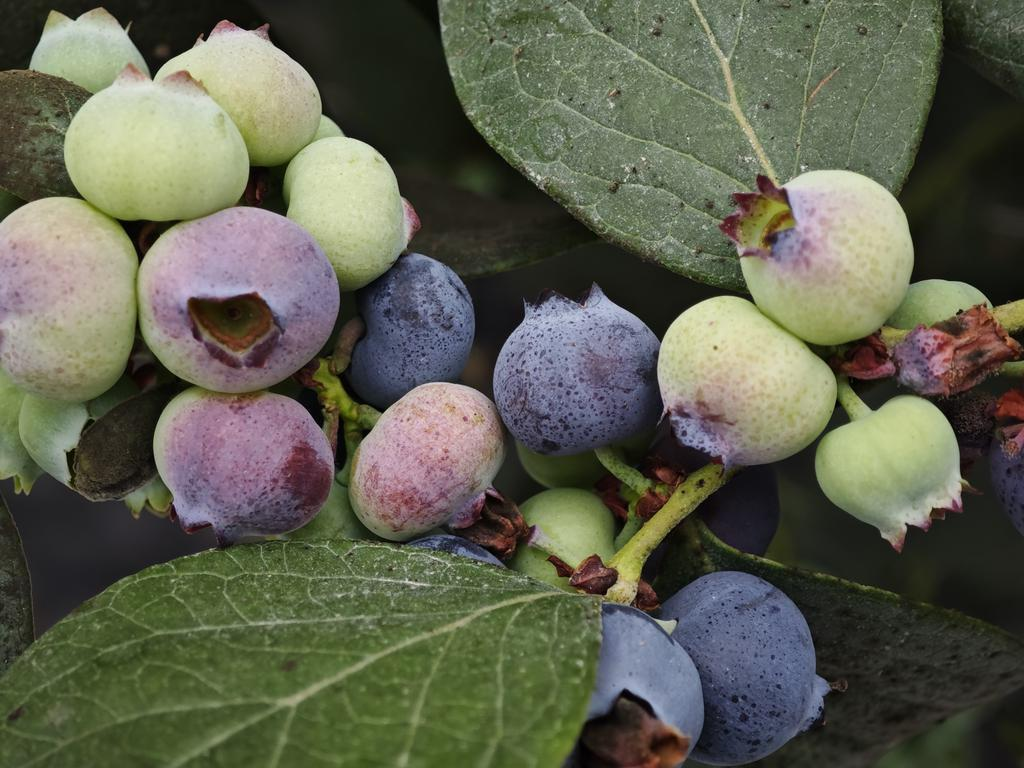RipeBlueBerry: (492, 289, 665, 459)
Semi-RipeBlueBerry: (138, 204, 344, 394), (149, 387, 339, 541), (348, 379, 509, 540)
UnripeBlueBerry: (722, 164, 918, 344), (658, 293, 839, 471), (62, 63, 253, 221)
